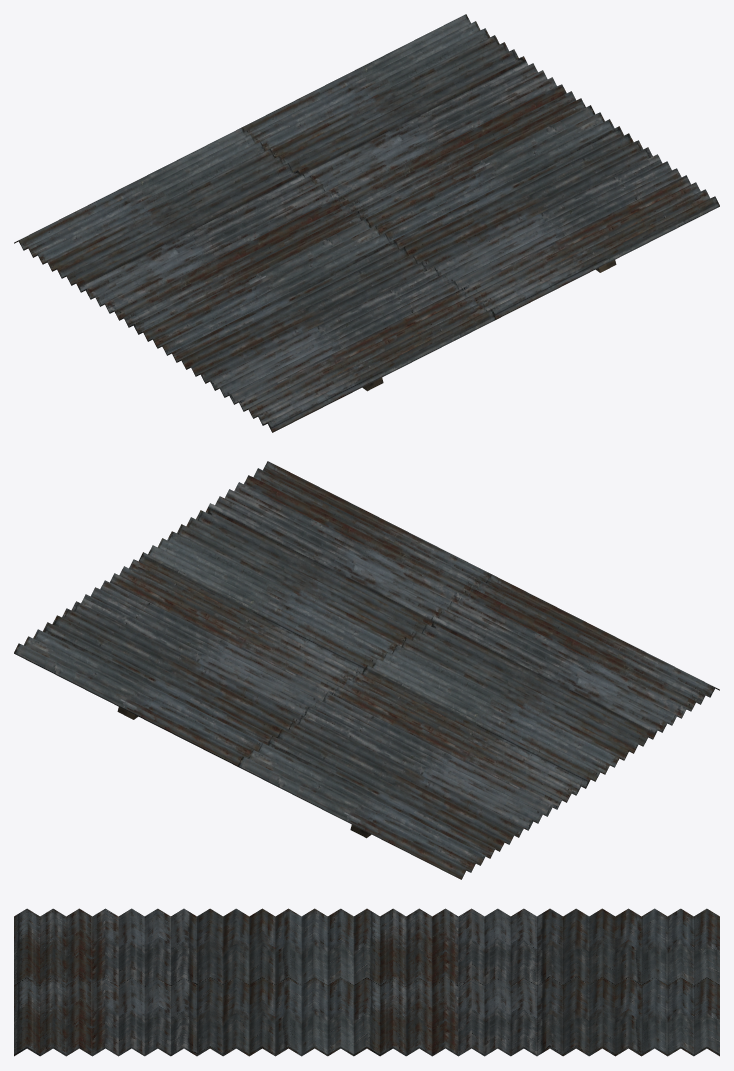
Rendered from roof_hr_3_middle_angle.obj.
3 views of the same model, one above another, from view 1: azimuth 30°, elevation 25°; view 2: azimuth 150°, elevation 25°; view 3: azimuth 270°, elevation 25° (orthographic). The views are drawn at different scales.
Parts seen in each view (by area): view 1: roof_hr_3_middle_angle; view 2: roof_hr_3_middle_angle; view 3: roof_hr_3_middle_angle.
Part boxes in pixels (box(x1,y1,x2,y2)): roof_hr_3_middle_angle: box(14, 14, 719, 432); roof_hr_3_middle_angle: box(14, 461, 719, 879); roof_hr_3_middle_angle: box(14, 908, 719, 1056).
Bounding box in the file's own units: 4 × 1.06 × 4.
